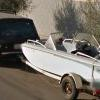Boat: (20, 24, 100, 99)
